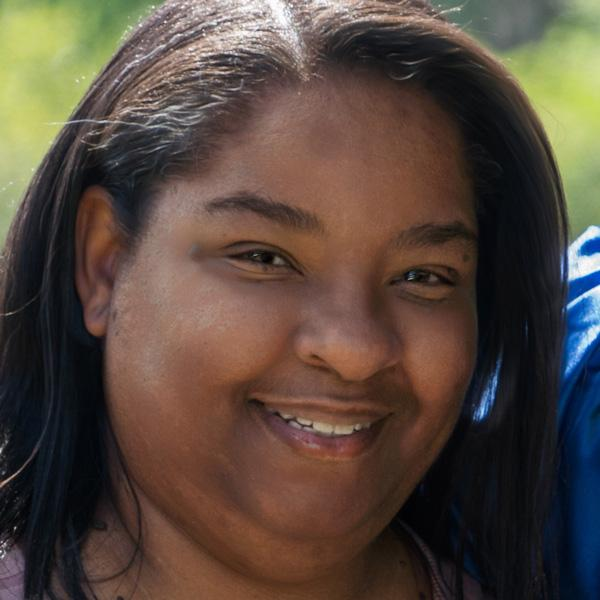Eyes: (206, 223, 309, 286), (378, 250, 466, 309)
